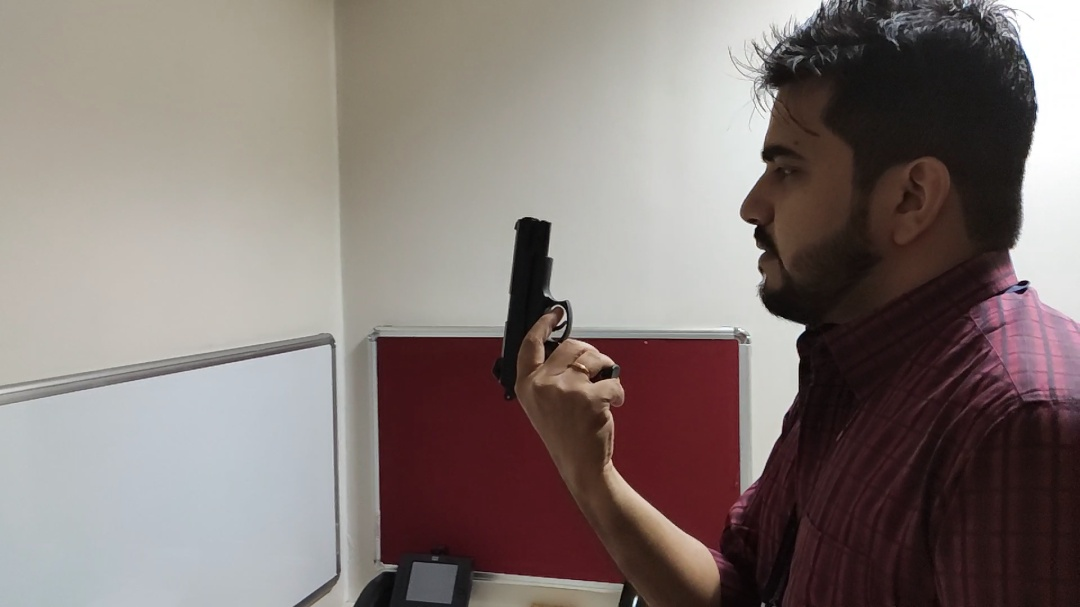gun: (493, 216, 622, 405)
